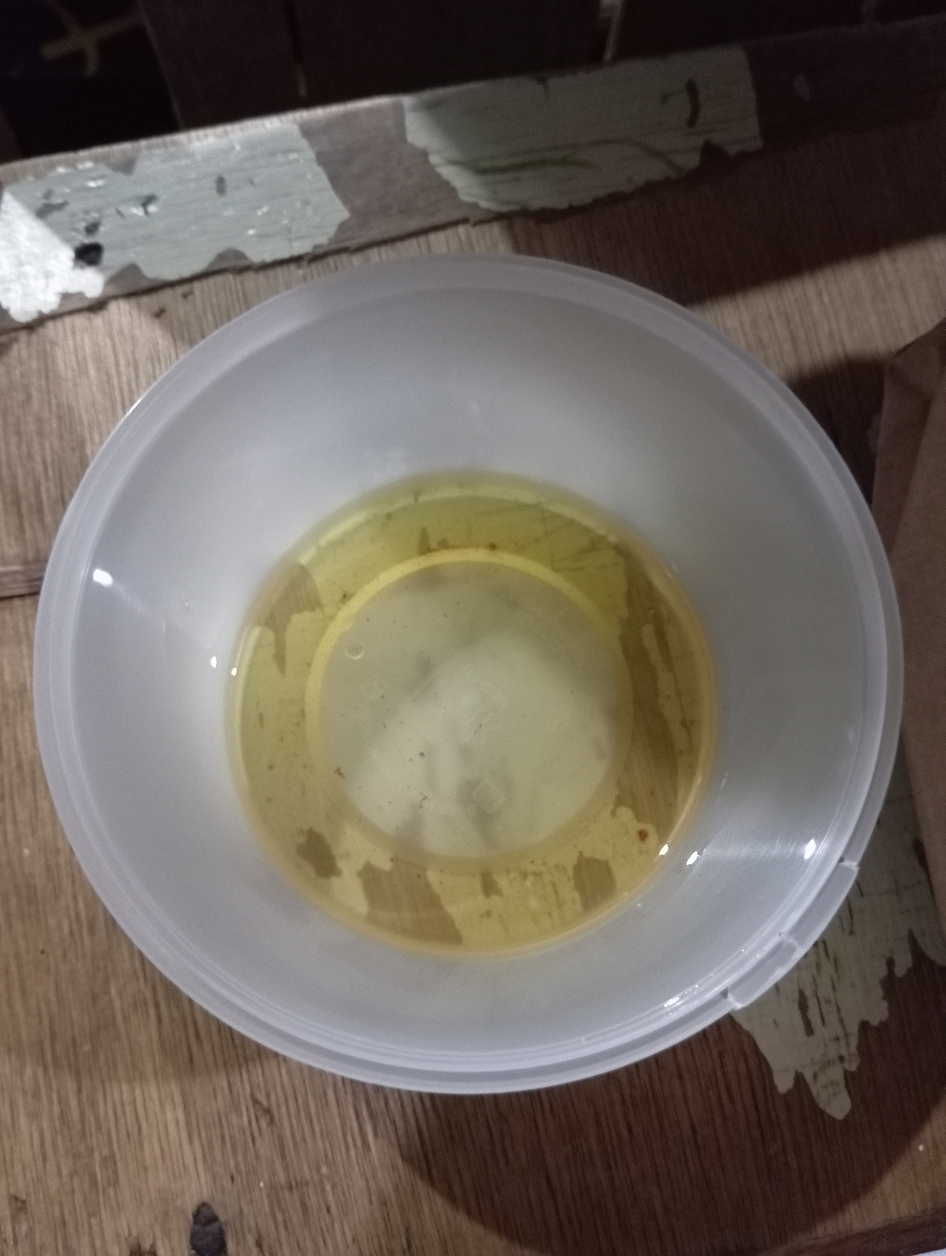reusable: (234, 477, 702, 951)
